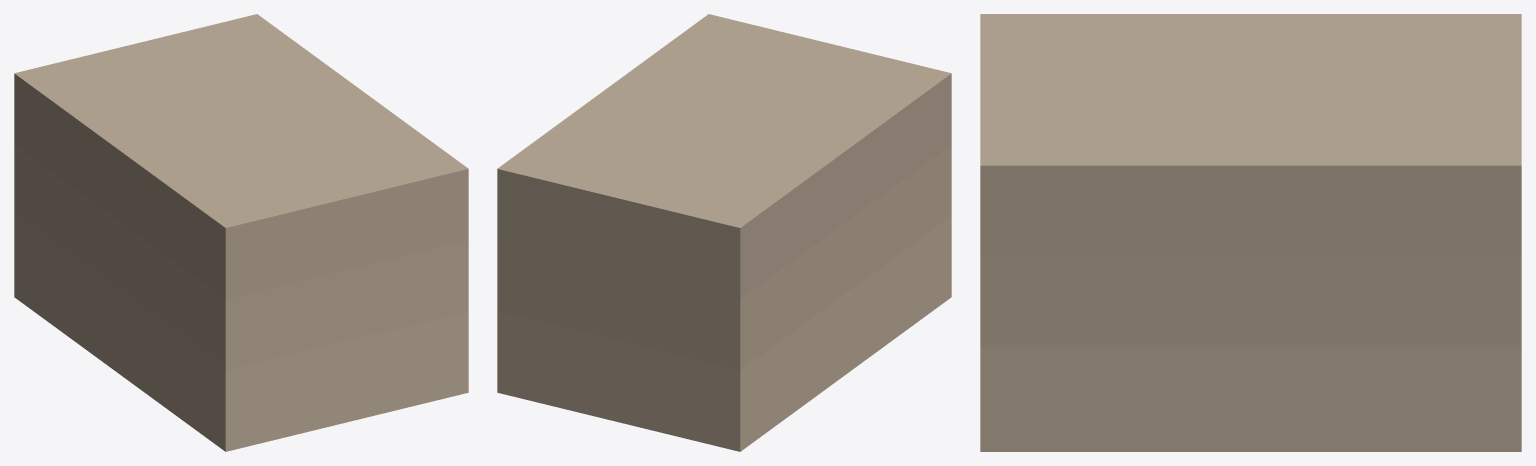
File: massing.glb
3 views of the same model, side by side, from view 1: azimuth 30°, elevation 25°; view 2: azimuth 150°, elevation 25°; view 3: azimuth 270°, elevation 25° (orthographic). The views are drawn at different scales.
Parts seen in each view (by area): view 1: main/floor3/0/0, main/floor1/0/0, main/floor2/0/0; view 2: main/floor3/0/0, main/floor1/0/0, main/floor2/0/0; view 3: main/floor3/0/0, main/floor1/0/0, main/floor2/0/0.
Boxes of the visible parts, left/top/right/bottom form: main/floor3/0/0: left=14, top=14, right=468, bottom=299; main/floor1/0/0: left=14, top=216, right=468, bottom=451; main/floor2/0/0: left=14, top=145, right=468, bottom=370; main/floor3/0/0: left=497, top=14, right=951, bottom=299; main/floor1/0/0: left=497, top=216, right=951, bottom=451; main/floor2/0/0: left=497, top=145, right=951, bottom=370; main/floor3/0/0: left=980, top=14, right=1521, bottom=256; main/floor1/0/0: left=980, top=348, right=1521, bottom=451; main/floor2/0/0: left=980, top=256, right=1521, bottom=347.
Bounding box in the file's own units: 10 × 8.8 × 15.07.
